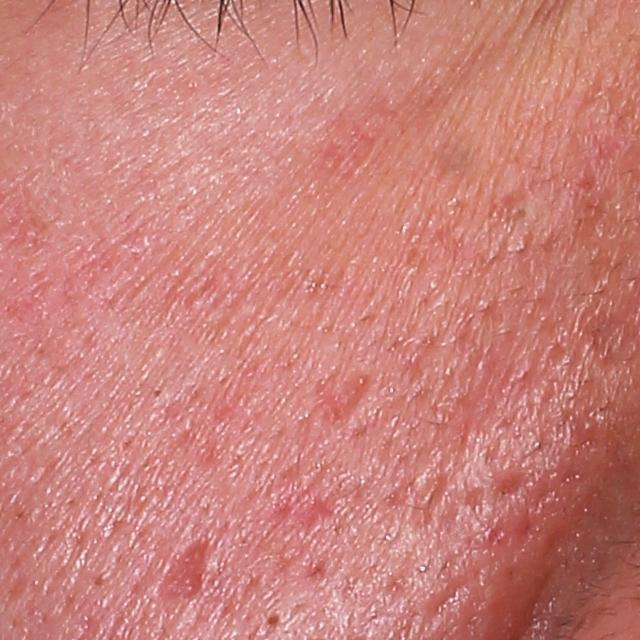atrophic_scar: (296, 367, 370, 461), (273, 472, 339, 539), (154, 533, 215, 603), (426, 571, 471, 623), (495, 468, 526, 506)
comedo: (265, 609, 284, 633), (514, 200, 530, 223)
